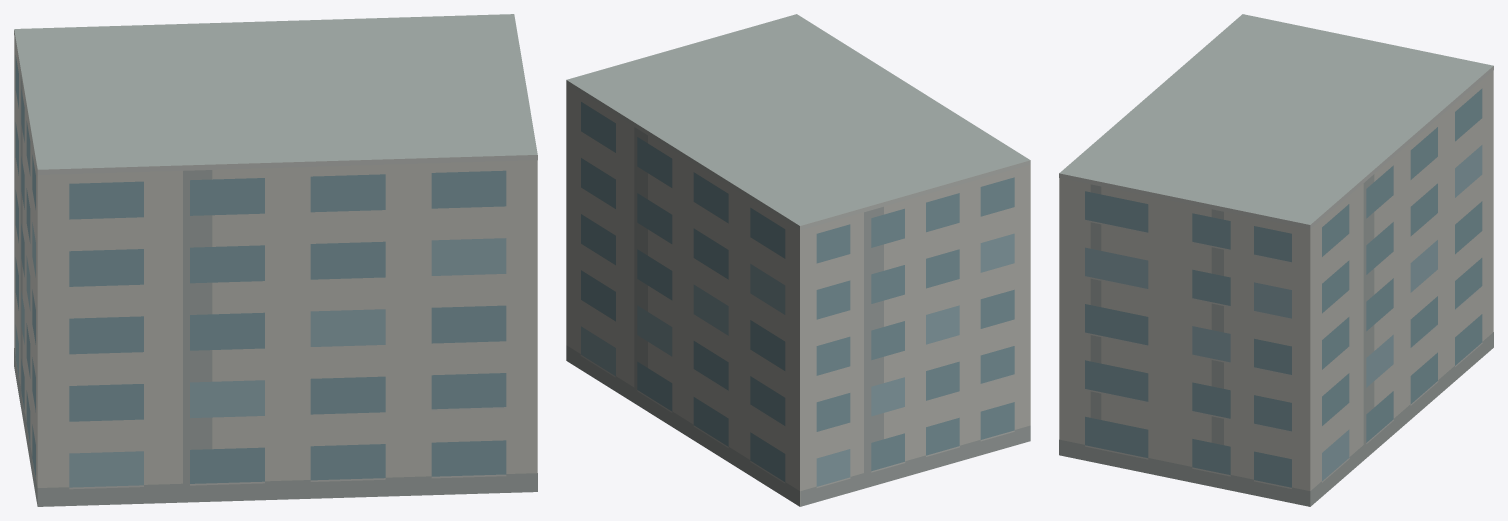
The model's file is residential-5a91241f-8525-476d-9fde-abadb496ea4a.glb.
3 renders of one model, left to right at view 1: azimuth 30°, elevation 25°; view 2: azimuth 150°, elevation 25°; view 3: azimuth 270°, elevation 25°, orthographic. The views are drawn at different scales.
Visible parts, largest first — view 1: residential-5a91241f-8525-476d-9fde-abadb496ea4a.tmp; view 2: residential-5a91241f-8525-476d-9fde-abadb496ea4a.tmp; view 3: residential-5a91241f-8525-476d-9fde-abadb496ea4a.tmp.
Part boxes in pixels (x1=…): residential-5a91241f-8525-476d-9fde-abadb496ea4a.tmp: x1=14, y1=14, x2=537, y2=506; residential-5a91241f-8525-476d-9fde-abadb496ea4a.tmp: x1=566, y1=14, x2=1030, y2=506; residential-5a91241f-8525-476d-9fde-abadb496ea4a.tmp: x1=1059, y1=14, x2=1493, y2=506.
Size of the model in its own units: 24.49 by 15.25 by 21.32.
